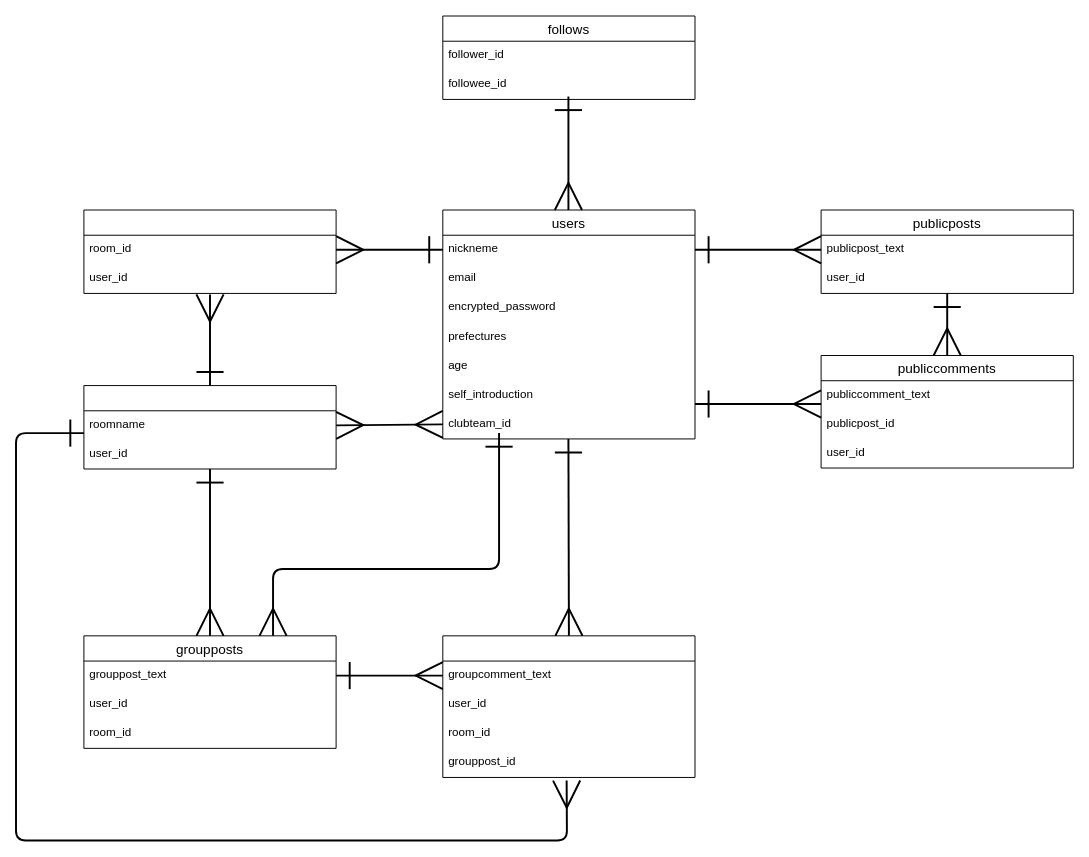
The diagram is 1089 pixels wide and 857 high, and some of its shapes have lost their labels. The shapes that lost their labels are listed below. From the top down, each one's box as (x1, y1, x2, y2) in pixels, then its label:
(83, 209, 336, 293): user_rooms
(83, 385, 336, 469): rooms
(442, 635, 695, 777): groupcomments
